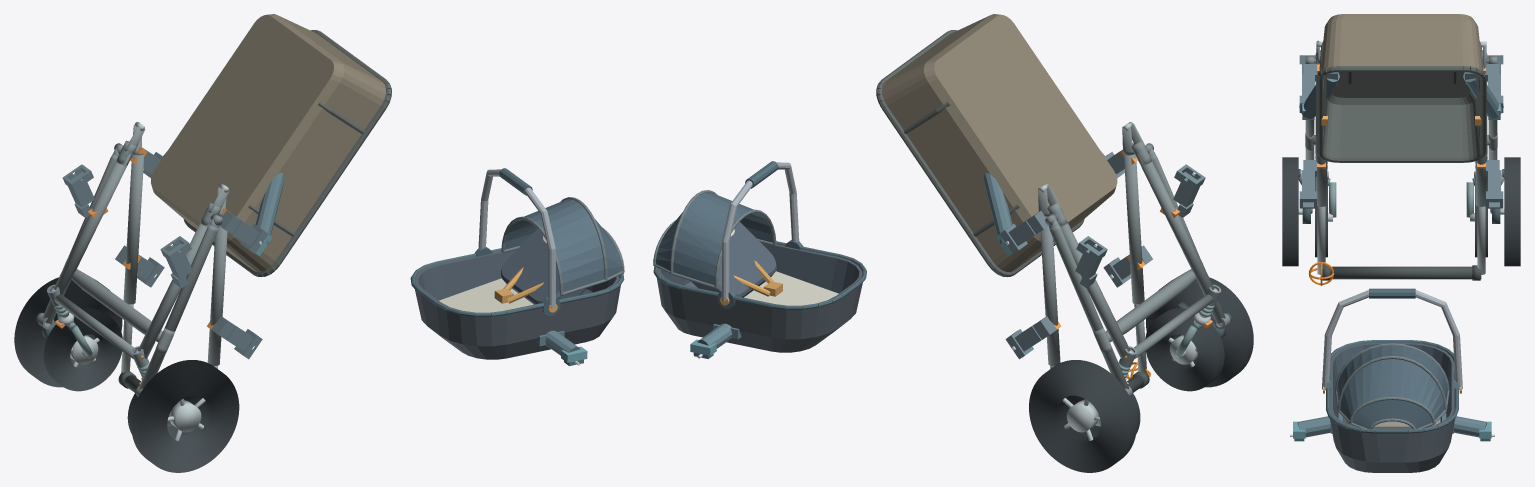
File: D16_w550_state3_wheel_M.glb
3 renders of one model, left to right at view 1: azimuth 30°, elevation 25°; view 2: azimuth 150°, elevation 25°; view 3: azimuth 270°, elevation 25°, orthographic. The views are drawn at different scales.
Visible parts, largest first — view 1: D16_Lower, D16_Upper, RL_tire.004, FR_tire.004, RR_tire.004, main_upper_1.005, main_lower_1.005, V46_rear_leg_-1.005, main_upper_-1.005, V46_rearbar.005, main_lower_-1.005, D16_Lower_Mount_M (+9 smaller); view 2: D16_Lower, D16_Upper, RR_tire.004, FL_tire.004, RL_tire.004, main_upper_-1.005, main_lower_-1.005, V46_rear_leg_1.005, main_upper_1.005, V46_rearbar.005, main_lower_1.005, D16_Lower_Mount_M (+9 smaller); view 3: D16_Lower, D16_Upper, round_handle.004, RL_tire.004, RR_tire.004, D16_Upper_Mount_H, D16_Lower_Mount_M, Universal_Cabin_Receiver_H_1, Universal_Cabin_Receiver_H_-1, main_upper_1.005, main_upper_-1.005, handle_slider_1.004 (+10 smaller).
Part boxes in pixels (x1,y1,x2,y2): D16_Lower: [151, 14, 391, 276]; D16_Upper: [410, 168, 624, 359]; RL_tire.004: [131, 360, 239, 472]; FR_tire.004: [43, 308, 122, 391]; RR_tire.004: [14, 277, 122, 387]; main_upper_1.005: [123, 154, 143, 304]; main_lower_1.005: [54, 154, 130, 295]; V46_rear_leg_-1.005: [139, 224, 218, 389]; main_upper_-1.005: [207, 216, 227, 365]; V46_rearbar.005: [71, 269, 162, 341]; main_lower_-1.005: [138, 221, 210, 358]; D16_Lower_Mount_M: [163, 152, 284, 255]; D16_Lower: [876, 14, 1117, 277]; D16_Upper: [653, 161, 866, 352]; RR_tire.004: [1029, 360, 1136, 472]; FL_tire.004: [1145, 308, 1224, 391]; RL_tire.004: [1146, 277, 1253, 387]; main_upper_-1.005: [1124, 154, 1144, 304]; main_lower_-1.005: [1137, 154, 1214, 295]; V46_rear_leg_1.005: [1049, 224, 1128, 389]; main_upper_1.005: [1040, 216, 1060, 365]; V46_rearbar.005: [1105, 269, 1196, 342]; main_lower_1.005: [1057, 221, 1130, 358]; D16_Lower_Mount_M: [983, 151, 1104, 255]; D16_Lower: [1316, 14, 1486, 162]; D16_Upper: [1322, 288, 1462, 472]; round_handle.004: [1330, 266, 1481, 279]; RL_tire.004: [1282, 157, 1298, 266]; RR_tire.004: [1504, 157, 1520, 266]; D16_Upper_Mount_H: [1290, 412, 1494, 441]; D16_Lower_Mount_M: [1299, 72, 1503, 119]; Universal_Cabin_Receiver_H_1: [1486, 160, 1503, 208]; Universal_Cabin_Receiver_H_-1: [1299, 160, 1316, 208]; main_upper_1.005: [1475, 73, 1487, 206]; main_upper_-1.005: [1315, 73, 1327, 206]; handle_slider_1.004: [1477, 206, 1485, 274].
Size of the model in its own units: 1.59 by 1 by 0.656.
